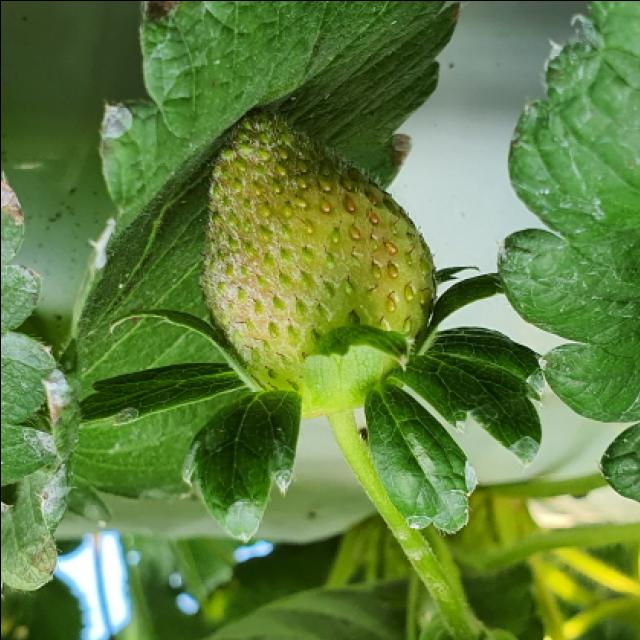Powdery Mildew Fruit: (200, 111, 354, 365)
